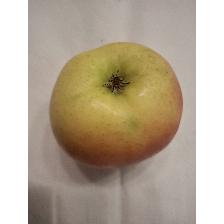Apfel: (47, 40, 185, 172)
